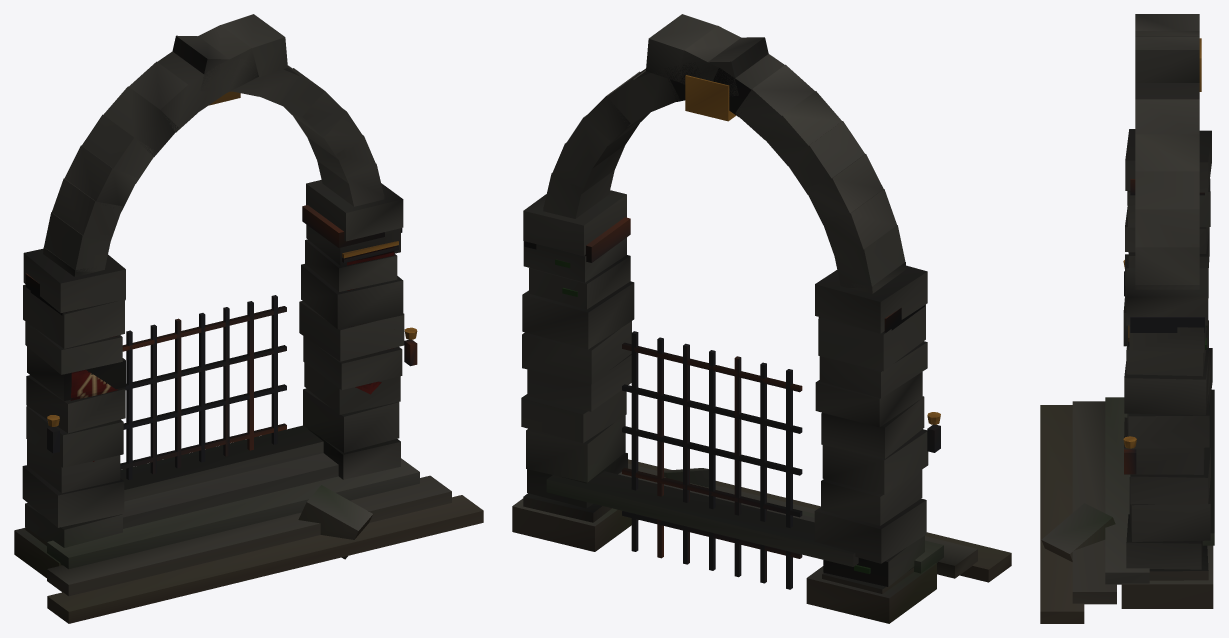
File: gate.glb
3 views of the same model, side by side, from view 1: azimuth 30°, elevation 25°; view 2: azimuth 150°, elevation 25°; view 3: azimuth 270°, elevation 25° (orthographic). The views are drawn at different scales.
Parts seen in each view (by area): view 1: gate; view 2: gate; view 3: gate.
Boxes of the visible parts, x1=… form: gate: x1=14, y1=14, x2=483, y2=623; gate: x1=512, y1=14, x2=1011, y2=623; gate: x1=1040, y1=14, x2=1214, y2=623.
Bounding box in the file's own units: 7.2 × 8.25 × 2.57.
